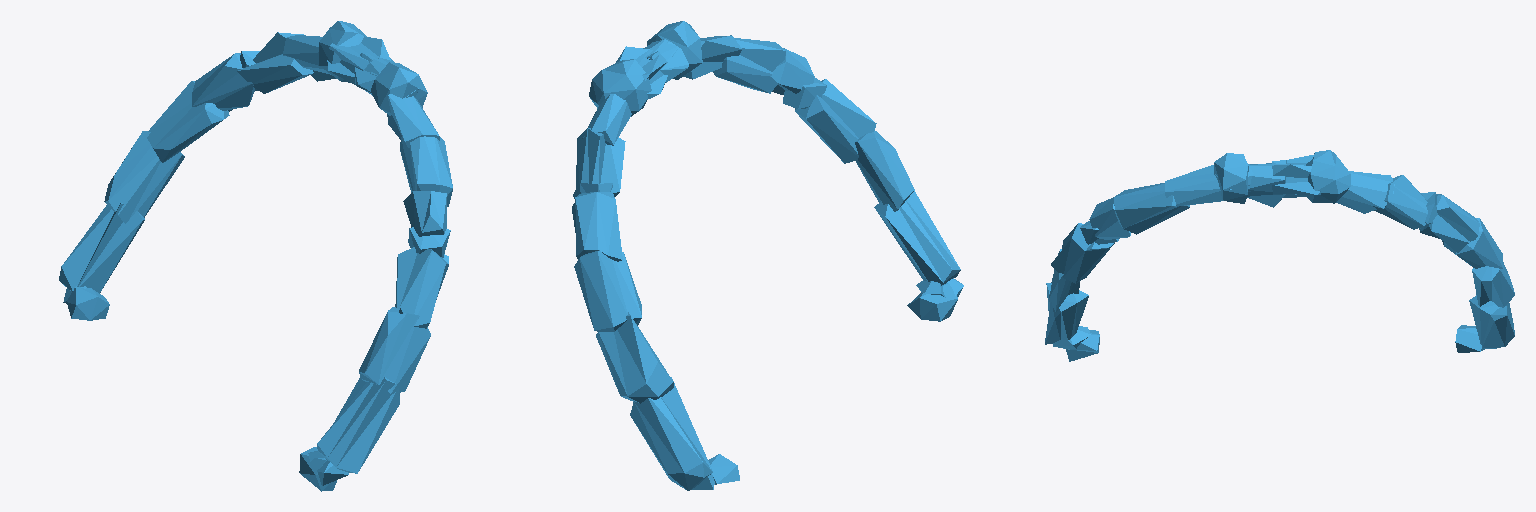
URDF robot description (partnet_a34ede107f27f7359dce4dc43843eadc):
<?xml version="1.0" ?><robot name="partnet_a34ede107f27f7359dce4dc43843eadc">
	<link name="base"/>
	<link name="link_0">
		<visual>
			<origin xyz="0 -0.5981993842303743 0.012492669625207758"/>
			<geometry>
				<mesh filename="new_objs/100468_link_0_18.obj"/>
			</geometry>
		</visual>
		<visual>
			<origin xyz="0 -0.5981993842303743 0.012492669625207758"/>
			<geometry>
				<mesh filename="new_objs/100468_link_0_9.obj"/>
			</geometry>
		</visual>
		<visual>
			<origin xyz="0 -0.5981993842303743 0.012492669625207758"/>
			<geometry>
				<mesh filename="new_objs/100468_link_0_14.obj"/>
			</geometry>
		</visual>
		<visual>
			<origin xyz="0 -0.5981993842303743 0.012492669625207758"/>
			<geometry>
				<mesh filename="new_objs/100468_link_0_7.obj"/>
			</geometry>
		</visual>
		<visual>
			<origin xyz="0 -0.5981993842303743 0.012492669625207758"/>
			<geometry>
				<mesh filename="new_objs/100468_link_0_20.obj"/>
			</geometry>
		</visual>
		<visual>
			<origin xyz="0 -0.5981993842303743 0.012492669625207758"/>
			<geometry>
				<mesh filename="new_objs/100468_link_0_6.obj"/>
			</geometry>
		</visual>
		<visual>
			<origin xyz="0 -0.5981993842303743 0.012492669625207758"/>
			<geometry>
				<mesh filename="new_objs/100468_link_0_11.obj"/>
			</geometry>
		</visual>
		<visual>
			<origin xyz="0 -0.5981993842303743 0.012492669625207758"/>
			<geometry>
				<mesh filename="new_objs/100468_link_0_1.obj"/>
			</geometry>
		</visual>
		<visual>
			<origin xyz="0 -0.5981993842303743 0.012492669625207758"/>
			<geometry>
				<mesh filename="new_objs/100468_link_0_5.obj"/>
			</geometry>
		</visual>
		<visual>
			<origin xyz="0 -0.5981993842303743 0.012492669625207758"/>
			<geometry>
				<mesh filename="new_objs/100468_link_0_16.obj"/>
			</geometry>
		</visual>
		<visual>
			<origin xyz="0 -0.5981993842303743 0.012492669625207758"/>
			<geometry>
				<mesh filename="new_objs/100468_link_0_13.obj"/>
			</geometry>
		</visual>
		<visual>
			<origin xyz="0 -0.5981993842303743 0.012492669625207758"/>
			<geometry>
				<mesh filename="new_objs/100468_link_0_22.obj"/>
			</geometry>
		</visual>
		<visual>
			<origin xyz="0 -0.5981993842303743 0.012492669625207758"/>
			<geometry>
				<mesh filename="new_objs/100468_link_0_4.obj"/>
			</geometry>
		</visual>
		<visual>
			<origin xyz="0 -0.5981993842303743 0.012492669625207758"/>
			<geometry>
				<mesh filename="new_objs/100468_link_0_23.obj"/>
			</geometry>
		</visual>
		<visual>
			<origin xyz="0 -0.5981993842303743 0.012492669625207758"/>
			<geometry>
				<mesh filename="new_objs/100468_link_0_17.obj"/>
			</geometry>
		</visual>
		<visual>
			<origin xyz="0 -0.5981993842303743 0.012492669625207758"/>
			<geometry>
				<mesh filename="new_objs/100468_link_0_19.obj"/>
			</geometry>
		</visual>
		<visual>
			<origin xyz="0 -0.5981993842303743 0.012492669625207758"/>
			<geometry>
				<mesh filename="new_objs/100468_link_0_24.obj"/>
			</geometry>
		</visual>
		<visual>
			<origin xyz="0 -0.5981993842303743 0.012492669625207758"/>
			<geometry>
				<mesh filename="new_objs/100468_link_0_10.obj"/>
			</geometry>
		</visual>
		<visual>
			<origin xyz="0 -0.5981993842303743 0.012492669625207758"/>
			<geometry>
				<mesh filename="new_objs/100468_link_0_15.obj"/>
			</geometry>
		</visual>
		<visual>
			<origin xyz="0 -0.5981993842303743 0.012492669625207758"/>
			<geometry>
				<mesh filename="new_objs/100468_link_0_25.obj"/>
			</geometry>
		</visual>
		<visual>
			<origin xyz="0 -0.5981993842303743 0.012492669625207758"/>
			<geometry>
				<mesh filename="new_objs/100468_link_0_8.obj"/>
			</geometry>
		</visual>
		<visual>
			<origin xyz="0 -0.5981993842303743 0.012492669625207758"/>
			<geometry>
				<mesh filename="new_objs/100468_link_0_21.obj"/>
			</geometry>
		</visual>
		<visual>
			<origin xyz="0 -0.5981993842303743 0.012492669625207758"/>
			<geometry>
				<mesh filename="new_objs/100468_link_0_2.obj"/>
			</geometry>
		</visual>
		<visual>
			<origin xyz="0 -0.5981993842303743 0.012492669625207758"/>
			<geometry>
				<mesh filename="new_objs/100468_link_0_0.obj"/>
			</geometry>
		</visual>
		<visual>
			<origin xyz="0 -0.5981993842303743 0.012492669625207758"/>
			<geometry>
				<mesh filename="new_objs/100468_link_0_12.obj"/>
			</geometry>
		</visual>
		<visual>
			<origin xyz="0 -0.5981993842303743 0.012492669625207758"/>
			<geometry>
				<mesh filename="new_objs/100468_link_0_3.obj"/>
			</geometry>
		</visual>
		
		
		<collision>
			<origin xyz="0 -0.5981993842303743 0.012492669625207758"/>
			<geometry>
				<mesh filename="new_objs/100468_link_0_18.obj"/>
			</geometry>
		</collision><collision>
			<origin xyz="0 -0.5981993842303743 0.012492669625207758"/>
			<geometry>
				<mesh filename="new_objs/100468_link_0_9.obj"/>
			</geometry>
		</collision><collision>
			<origin xyz="0 -0.5981993842303743 0.012492669625207758"/>
			<geometry>
				<mesh filename="new_objs/100468_link_0_14.obj"/>
			</geometry>
		</collision><collision>
			<origin xyz="0 -0.5981993842303743 0.012492669625207758"/>
			<geometry>
				<mesh filename="new_objs/100468_link_0_7.obj"/>
			</geometry>
		</collision><collision>
			<origin xyz="0 -0.5981993842303743 0.012492669625207758"/>
			<geometry>
				<mesh filename="new_objs/100468_link_0_20.obj"/>
			</geometry>
		</collision><collision>
			<origin xyz="0 -0.5981993842303743 0.012492669625207758"/>
			<geometry>
				<mesh filename="new_objs/100468_link_0_6.obj"/>
			</geometry>
		</collision><collision>
			<origin xyz="0 -0.5981993842303743 0.012492669625207758"/>
			<geometry>
				<mesh filename="new_objs/100468_link_0_11.obj"/>
			</geometry>
		</collision><collision>
			<origin xyz="0 -0.5981993842303743 0.012492669625207758"/>
			<geometry>
				<mesh filename="new_objs/100468_link_0_1.obj"/>
			</geometry>
		</collision><collision>
			<origin xyz="0 -0.5981993842303743 0.012492669625207758"/>
			<geometry>
				<mesh filename="new_objs/100468_link_0_5.obj"/>
			</geometry>
		</collision><collision>
			<origin xyz="0 -0.5981993842303743 0.012492669625207758"/>
			<geometry>
				<mesh filename="new_objs/100468_link_0_16.obj"/>
			</geometry>
		</collision><collision>
			<origin xyz="0 -0.5981993842303743 0.012492669625207758"/>
			<geometry>
				<mesh filename="new_objs/100468_link_0_13.obj"/>
			</geometry>
		</collision><collision>
			<origin xyz="0 -0.5981993842303743 0.012492669625207758"/>
			<geometry>
				<mesh filename="new_objs/100468_link_0_22.obj"/>
			</geometry>
		</collision><collision>
			<origin xyz="0 -0.5981993842303743 0.012492669625207758"/>
			<geometry>
				<mesh filename="new_objs/100468_link_0_4.obj"/>
			</geometry>
		</collision><collision>
			<origin xyz="0 -0.5981993842303743 0.012492669625207758"/>
			<geometry>
				<mesh filename="new_objs/100468_link_0_23.obj"/>
			</geometry>
		</collision><collision>
			<origin xyz="0 -0.5981993842303743 0.012492669625207758"/>
			<geometry>
				<mesh filename="new_objs/100468_link_0_17.obj"/>
			</geometry>
		</collision><collision>
			<origin xyz="0 -0.5981993842303743 0.012492669625207758"/>
			<geometry>
				<mesh filename="new_objs/100468_link_0_19.obj"/>
			</geometry>
		</collision><collision>
			<origin xyz="0 -0.5981993842303743 0.012492669625207758"/>
			<geometry>
				<mesh filename="new_objs/100468_link_0_24.obj"/>
			</geometry>
		</collision><collision>
			<origin xyz="0 -0.5981993842303743 0.012492669625207758"/>
			<geometry>
				<mesh filename="new_objs/100468_link_0_10.obj"/>
			</geometry>
		</collision><collision>
			<origin xyz="0 -0.5981993842303743 0.012492669625207758"/>
			<geometry>
				<mesh filename="new_objs/100468_link_0_15.obj"/>
			</geometry>
		</collision><collision>
			<origin xyz="0 -0.5981993842303743 0.012492669625207758"/>
			<geometry>
				<mesh filename="new_objs/100468_link_0_25.obj"/>
			</geometry>
		</collision><collision>
			<origin xyz="0 -0.5981993842303743 0.012492669625207758"/>
			<geometry>
				<mesh filename="new_objs/100468_link_0_8.obj"/>
			</geometry>
		</collision><collision>
			<origin xyz="0 -0.5981993842303743 0.012492669625207758"/>
			<geometry>
				<mesh filename="new_objs/100468_link_0_21.obj"/>
			</geometry>
		</collision><collision>
			<origin xyz="0 -0.5981993842303743 0.012492669625207758"/>
			<geometry>
				<mesh filename="new_objs/100468_link_0_2.obj"/>
			</geometry>
		</collision><collision>
			<origin xyz="0 -0.5981993842303743 0.012492669625207758"/>
			<geometry>
				<mesh filename="new_objs/100468_link_0_0.obj"/>
			</geometry>
		</collision><collision>
			<origin xyz="0 -0.5981993842303743 0.012492669625207758"/>
			<geometry>
				<mesh filename="new_objs/100468_link_0_12.obj"/>
			</geometry>
		</collision><collision>
			<origin xyz="0 -0.5981993842303743 0.012492669625207758"/>
			<geometry>
				<mesh filename="new_objs/100468_link_0_3.obj"/>
			</geometry>
		</collision></link>
	<joint name="joint_0" type="revolute">
		<origin xyz="0 0.5981993842303743 -0.012492669625207758"/>
		<axis xyz="-1 0 0.01"/>
		<child link="link_0"/>
		<parent link="link_1"/>
		<limit lower="1.163" upper="4.963716392671873"/>
	</joint>
	<link name="link_1">
		<collision>
			<origin xyz="0 0 0"/>
			<geometry>
				<mesh filename="new_objs/100468_link_1_34.obj"/>
			</geometry>
		</collision>
		<collision>
			<origin xyz="0 0 0"/>
			<geometry>
				<mesh filename="new_objs/100468_link_1_35.obj"/>
			</geometry>
		</collision>
		<collision>
			<origin xyz="0 0 0"/>
			<geometry>
				<mesh filename="new_objs/100468_link_1_9.obj"/>
			</geometry>
		</collision>
		<collision>
			<origin xyz="0 0 0"/>
			<geometry>
				<mesh filename="new_objs/100468_link_1_7.obj"/>
			</geometry>
		</collision>
		<collision>
			<origin xyz="0 0 0"/>
			<geometry>
				<mesh filename="new_objs/100468_link_1_21.obj"/>
			</geometry>
		</collision>
		<collision>
			<origin xyz="0 0 0"/>
			<geometry>
				<mesh filename="new_objs/100468_link_1_5.obj"/>
			</geometry>
		</collision>
		<collision>
			<origin xyz="0 0 0"/>
			<geometry>
				<mesh filename="new_objs/100468_link_1_11.obj"/>
			</geometry>
		</collision>
		<collision>
			<origin xyz="0 0 0"/>
			<geometry>
				<mesh filename="new_objs/100468_link_1_15.obj"/>
			</geometry>
		</collision>
		<collision>
			<origin xyz="0 0 0"/>
			<geometry>
				<mesh filename="new_objs/100468_link_1_36.obj"/>
			</geometry>
		</collision>
		<collision>
			<origin xyz="0 0 0"/>
			<geometry>
				<mesh filename="new_objs/100468_link_1_8.obj"/>
			</geometry>
		</collision>
		<collision>
			<origin xyz="0 0 0"/>
			<geometry>
				<mesh filename="new_objs/100468_link_1_37.obj"/>
			</geometry>
		</collision>
		<collision>
			<origin xyz="0 0 0"/>
			<geometry>
				<mesh filename="new_objs/100468_link_1_18.obj"/>
			</geometry>
		</collision>
		<collision>
			<origin xyz="0 0 0"/>
			<geometry>
				<mesh filename="new_objs/100468_link_1_27.obj"/>
			</geometry>
		</collision>
		<collision>
			<origin xyz="0 0 0"/>
			<geometry>
				<mesh filename="new_objs/100468_link_1_40.obj"/>
			</geometry>
		</collision>
		<collision>
			<origin xyz="0 0 0"/>
			<geometry>
				<mesh filename="new_objs/100468_link_1_23.obj"/>
			</geometry>
		</collision>
		<collision>
			<origin xyz="0 0 0"/>
			<geometry>
				<mesh filename="new_objs/100468_link_1_17.obj"/>
			</geometry>
		</collision>
		<collision>
			<origin xyz="0 0 0"/>
			<geometry>
				<mesh filename="new_objs/100468_link_1_39.obj"/>
			</geometry>
		</collision>
		<collision>
			<origin xyz="0 0 0"/>
			<geometry>
				<mesh filename="new_objs/100468_link_1_22.obj"/>
			</geometry>
		</collision>
		<collision>
			<origin xyz="0 0 0"/>
			<geometry>
				<mesh filename="new_objs/100468_link_1_4.obj"/>
			</geometry>
		</collision>
		<collision>
			<origin xyz="0 0 0"/>
			<geometry>
				<mesh filename="new_objs/100468_link_1_1.obj"/>
			</geometry>
		</collision>
		<collision>
			<origin xyz="0 0 0"/>
			<geometry>
				<mesh filename="new_objs/100468_link_1_10.obj"/>
			</geometry>
		</collision>
		<collision>
			<origin xyz="0 0 0"/>
			<geometry>
				<mesh filename="new_objs/100468_link_1_28.obj"/>
			</geometry>
		</collision>
		<collision>
			<origin xyz="0 0 0"/>
			<geometry>
				<mesh filename="new_objs/100468_link_1_12.obj"/>
			</geometry>
		</collision>
		<collision>
			<origin xyz="0 0 0"/>
			<geometry>
				<mesh filename="new_objs/100468_link_1_38.obj"/>
			</geometry>
		</collision>
		<collision>
			<origin xyz="0 0 0"/>
			<geometry>
				<mesh filename="new_objs/100468_link_1_6.obj"/>
			</geometry>
		</collision>
		<collision>
			<origin xyz="0 0 0"/>
			<geometry>
				<mesh filename="new_objs/100468_link_1_13.obj"/>
			</geometry>
		</collision>
		<collision>
			<origin xyz="0 0 0"/>
			<geometry>
				<mesh filename="new_objs/100468_link_1_20.obj"/>
			</geometry>
		</collision>
		<collision>
			<origin xyz="0 0 0"/>
			<geometry>
				<mesh filename="new_objs/100468_link_1_29.obj"/>
			</geometry>
		</collision>
		<collision>
			<origin xyz="0 0 0"/>
			<geometry>
				<mesh filename="new_objs/100468_link_1_0.obj"/>
			</geometry>
		</collision>
		<collision>
			<origin xyz="0 0 0"/>
			<geometry>
				<mesh filename="new_objs/100468_link_1_16.obj"/>
			</geometry>
		</collision>
		<collision>
			<origin xyz="0 0 0"/>
			<geometry>
				<mesh filename="new_objs/100468_link_1_31.obj"/>
			</geometry>
		</collision>
		<collision>
			<origin xyz="0 0 0"/>
			<geometry>
				<mesh filename="new_objs/100468_link_1_30.obj"/>
			</geometry>
		</collision>
		<collision>
			<origin xyz="0 0 0"/>
			<geometry>
				<mesh filename="new_objs/100468_link_1_33.obj"/>
			</geometry>
		</collision>
		<collision>
			<origin xyz="0 0 0"/>
			<geometry>
				<mesh filename="new_objs/100468_link_1_24.obj"/>
			</geometry>
		</collision>
		<collision>
			<origin xyz="0 0 0"/>
			<geometry>
				<mesh filename="new_objs/100468_link_1_3.obj"/>
			</geometry>
		</collision>
		<collision>
			<origin xyz="0 0 0"/>
			<geometry>
				<mesh filename="new_objs/100468_link_1_25.obj"/>
			</geometry>
		</collision>
		<collision>
			<origin xyz="0 0 0"/>
			<geometry>
				<mesh filename="new_objs/100468_link_1_26.obj"/>
			</geometry>
		</collision>
		<collision>
			<origin xyz="0 0 0"/>
			<geometry>
				<mesh filename="new_objs/100468_link_1_2.obj"/>
			</geometry>
		</collision>
		<collision>
			<origin xyz="0 0 0"/>
			<geometry>
				<mesh filename="new_objs/100468_link_1_19.obj"/>
			</geometry>
		</collision>
		<collision>
			<origin xyz="0 0 0"/>
			<geometry>
				<mesh filename="new_objs/100468_link_1_32.obj"/>
			</geometry>
		</collision>
		<collision>
			<origin xyz="0 0 0"/>
			<geometry>
				<mesh filename="new_objs/100468_link_1_14.obj"/>
			</geometry>
		</collision>
		<visual name="base_body-part[&quot;id]">
			<origin xyz="0 0 0"/>
			<geometry>
				<mesh filename="textured_objs/original-3.obj"/>
			</geometry>
		</visual>
		<visual name="base_body-part[&quot;id]">
			<origin xyz="0 0 0"/>
			<geometry>
				<mesh filename="textured_objs/original-6.obj"/>
			</geometry>
		</visual>
		</link>
	<joint name="joint_1" type="fixed">
		<origin rpy="1.570796326794897 0 -1.570796326794897" xyz="0 0 0"/>
		<child link="link_1"/>
		<parent link="base"/>
	</joint>
</robot>

--- What the picture shows (computed from the rendered views, not written in the file) ---
3 views of the same robot in one strip: view 1: azimuth 30°, elevation 25°; view 2: azimuth 150°, elevation 25°; view 3: azimuth 270°, elevation 25° (orthographic).
Robot: partnet_a34ede107f27f7359dce4dc43843eadc — 3 links, 2 joints (1 revolute, 1 fixed); root link base; default pose: all joints at 0 but 1 set to mid-range because 0 is outside their limits (joint_0 = 3.06).
Visible links, largest first — view 1: link_0; view 2: link_0; view 3: link_0.
Link boxes in pixels (<box>): link_0: <box>59,21,452,491</box>; link_0: <box>572,21,963,490</box>; link_0: <box>1045,150,1514,361</box>.
Bounding box of the posed robot: 0.6151 × 1.3 × 0.8464 m (x, y, z).
26 mesh visuals loaded from 28 distinct referenced files (26 OBJ); not drawn: 2 (reference not matched to a file when rendering).
